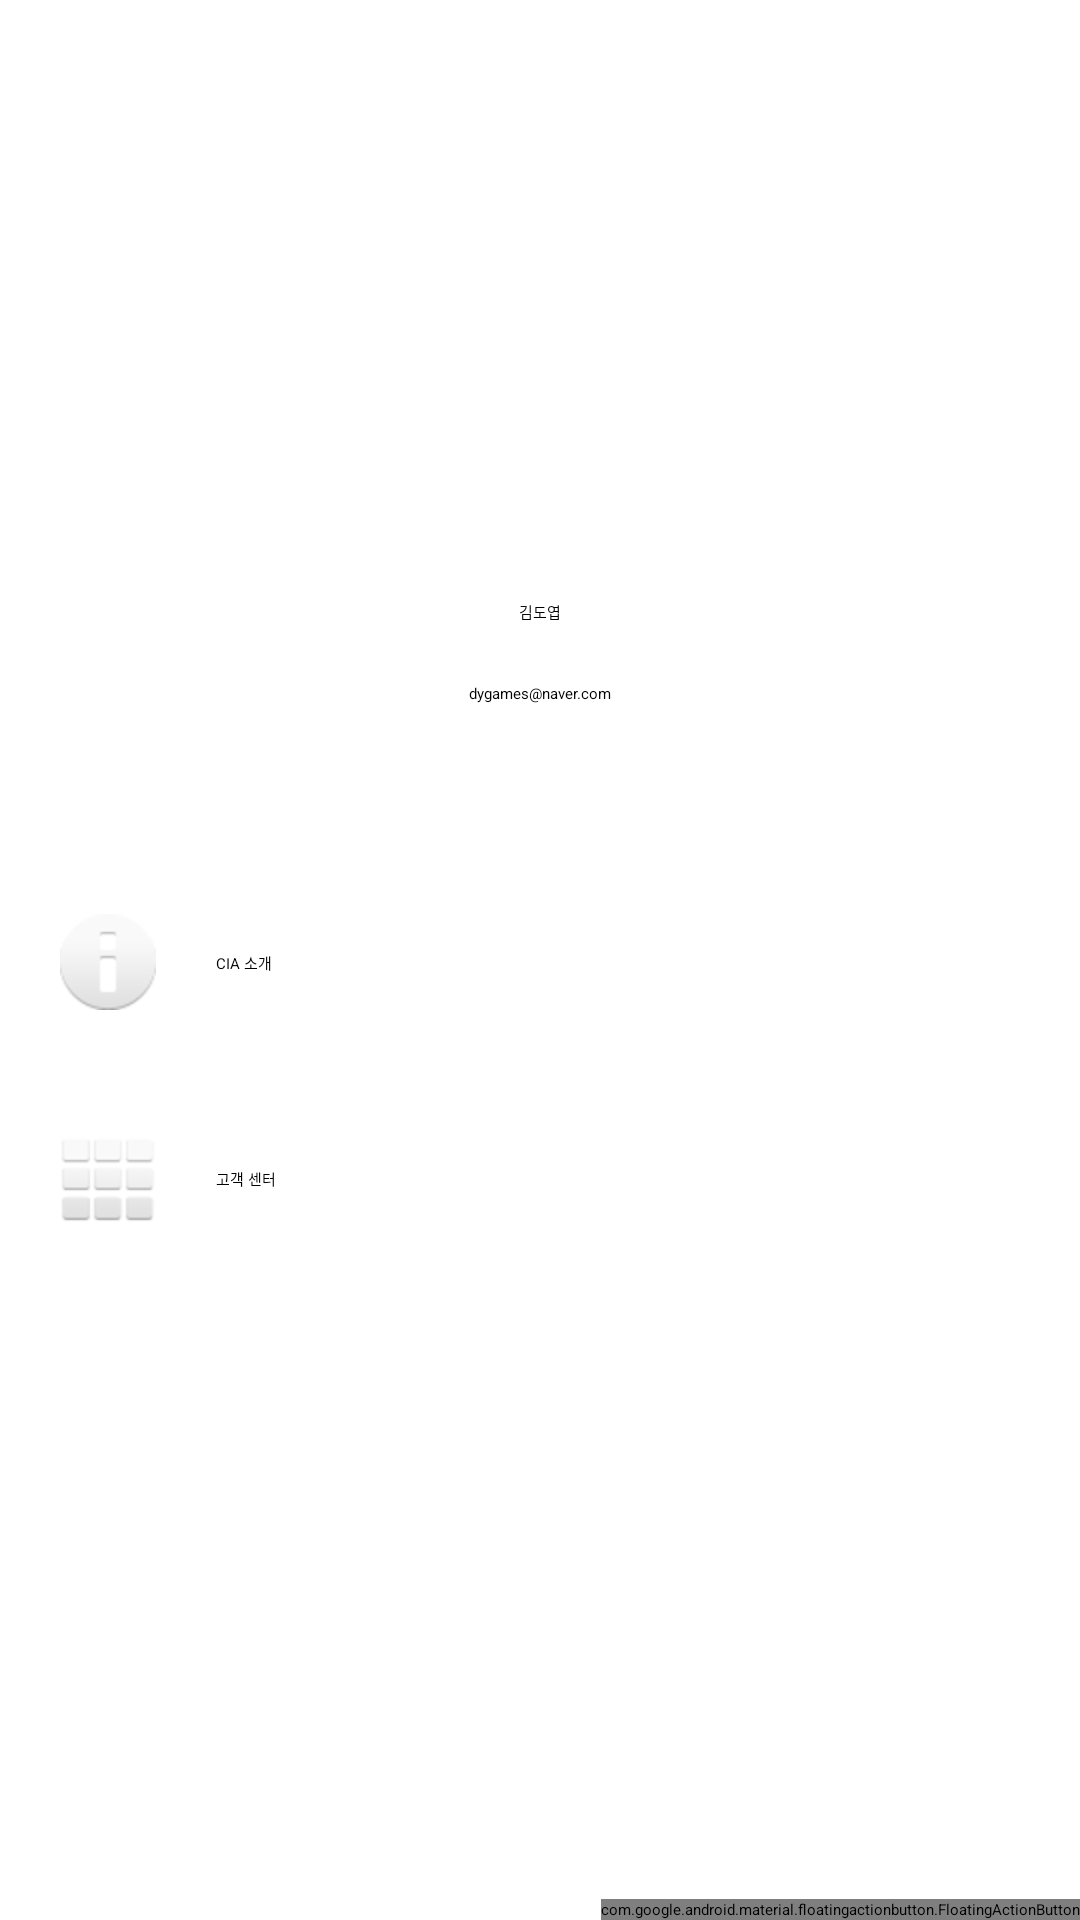

Icon click points for this 1080×1920 phone screenshot, format [x,y]:
info: [108,971]
